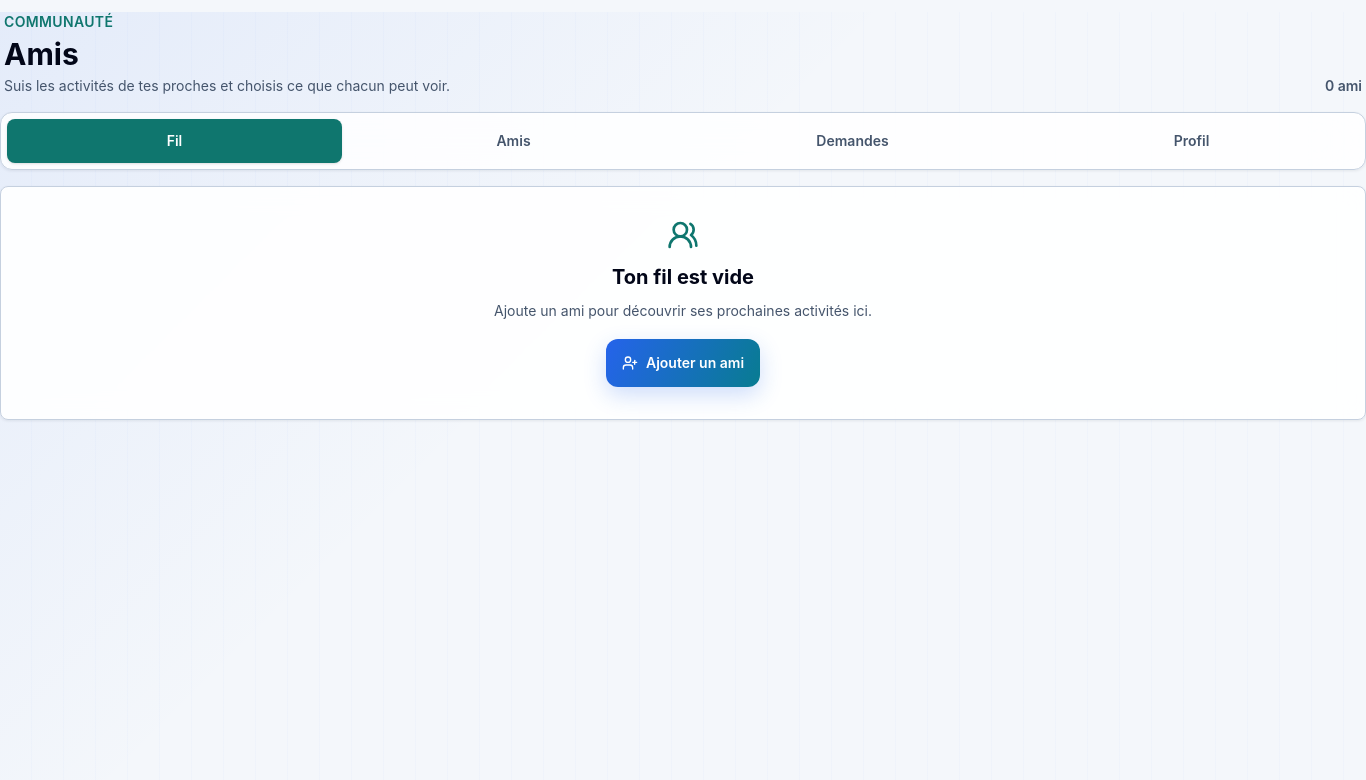
Test case: statut de l’identifiant public › affiche la carte sociale en lecture seule avec Modifier et sans Enregistrer
Click the button with aria-label "Mon profil social" at (1192, 141), box [1024,119,1359,163]
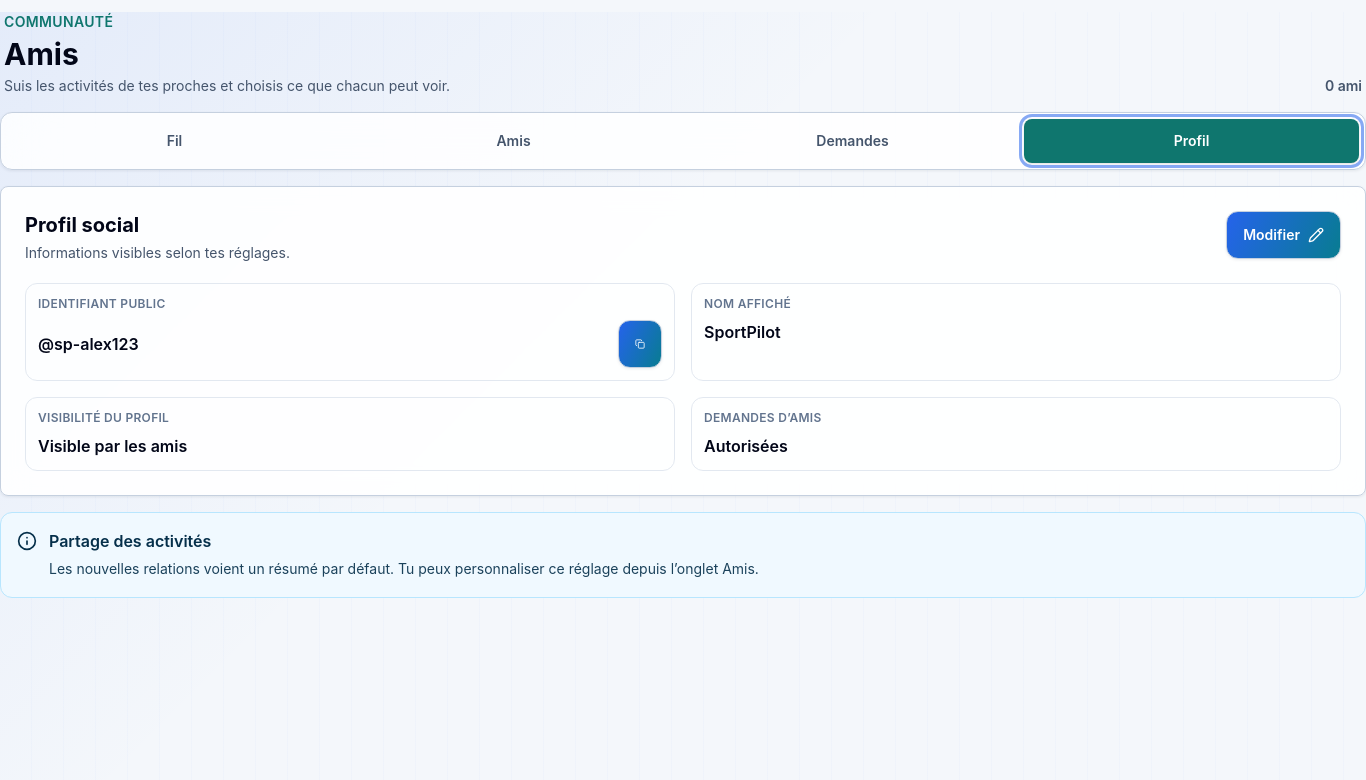
Expected: the button with aria-label "Modifier le profil public" reads "Modifier", [1226,211,1341,259]
Expected: the text "@sp-alex123" is shown, [38,334,139,354]
